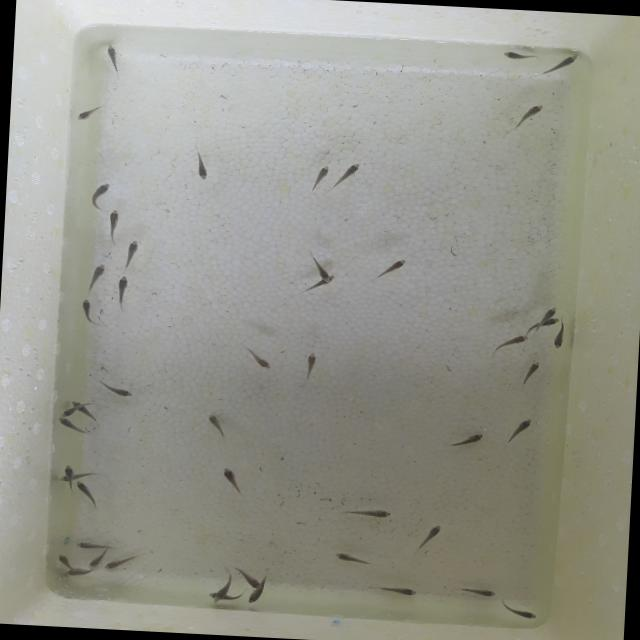fingerling: (508, 102, 548, 134), (237, 340, 276, 371), (332, 160, 362, 194), (306, 162, 334, 198), (412, 522, 443, 554), (102, 38, 125, 80), (94, 379, 136, 402), (72, 98, 110, 123), (192, 145, 216, 184), (112, 271, 134, 312), (371, 258, 408, 282), (544, 52, 580, 76), (306, 251, 333, 283), (501, 601, 542, 622), (218, 464, 246, 494), (503, 419, 533, 446), (491, 334, 531, 354), (345, 506, 394, 522), (102, 209, 124, 244), (78, 296, 102, 328), (204, 412, 230, 440), (84, 262, 108, 292), (72, 534, 112, 552), (370, 584, 421, 598), (122, 238, 144, 270), (90, 180, 114, 208), (456, 583, 500, 598), (449, 432, 485, 450), (331, 550, 371, 566), (102, 556, 138, 572), (238, 566, 262, 590), (302, 351, 320, 382), (502, 49, 538, 64), (72, 480, 96, 502), (520, 361, 540, 384), (549, 332, 568, 352), (84, 552, 104, 570), (64, 566, 92, 578), (245, 590, 266, 606), (211, 584, 227, 604), (55, 552, 74, 568), (540, 304, 560, 318), (62, 462, 76, 480), (56, 418, 78, 428), (60, 407, 76, 419), (548, 316, 560, 328)
